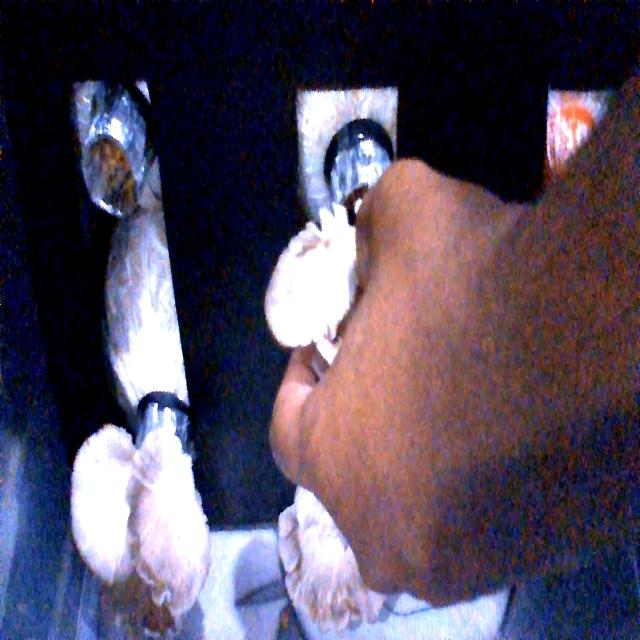big: (70, 433, 208, 592)
nfound: (70, 132, 141, 225)
